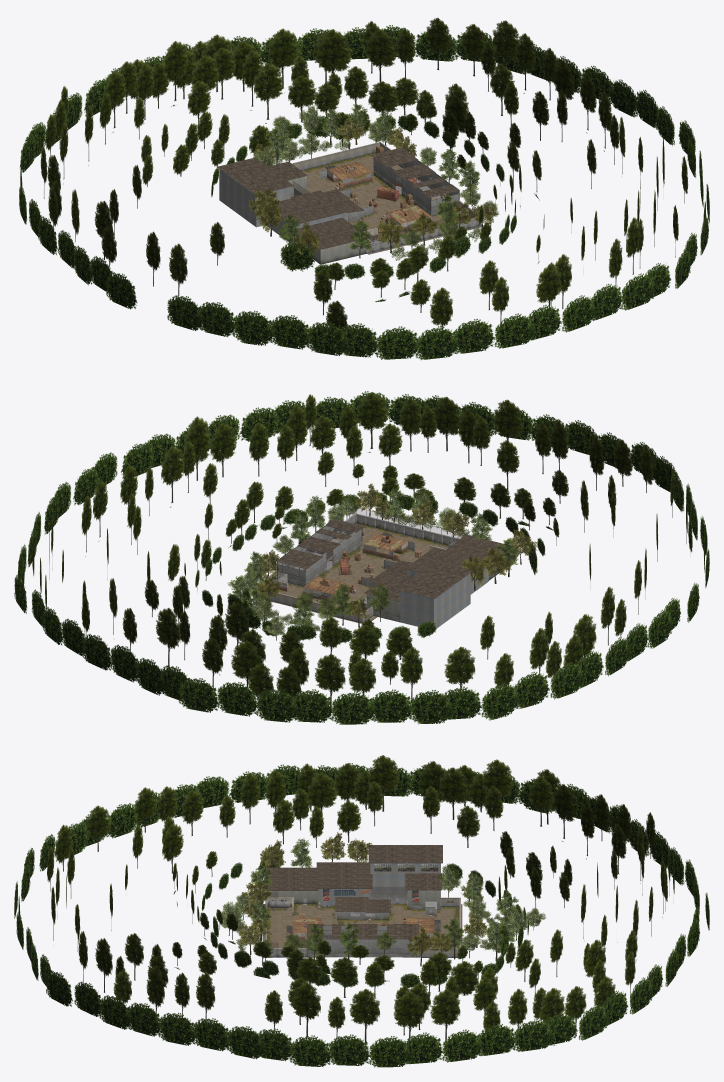
Rendered from map1.glb.
3 renders of one model, top to bottom at view 1: azimuth 30°, elevation 25°; view 2: azimuth 150°, elevation 25°; view 3: azimuth 270°, elevation 25°, orthographic. The views are drawn at different scales.
Visible parts, largest first — view 1: Object_36, Object_18, Object_33, Object_30, Object_15, Object_21, Object_24, Object_9, Object_27; view 2: Object_36, Object_18, Object_33, Object_30, Object_15, Object_21, Object_27, Object_9, Object_24; view 3: Object_36, Object_18, Object_33, Object_30, Object_21, Object_15, Object_24, Object_9.
Boxes of the visible parts, box(x1,y1,x2,y2) form: Object_36: box(19, 17, 709, 359); Object_18: box(217, 147, 468, 249); Object_33: box(291, 142, 481, 254); Object_30: box(219, 169, 476, 244); Object_15: box(248, 116, 490, 258); Object_21: box(327, 145, 446, 241); Object_24: box(287, 176, 366, 264); Object_9: box(304, 150, 481, 249); Object_27: box(305, 170, 468, 243); Object_36: box(14, 391, 709, 724); Object_18: box(276, 519, 511, 622); Object_33: box(253, 513, 459, 623); Object_30: box(356, 513, 488, 628); Object_15: box(235, 494, 537, 640); Object_21: box(262, 532, 456, 594); Object_27: box(268, 528, 445, 610); Object_9: box(278, 522, 447, 591); Object_24: box(366, 552, 514, 617); Object_36: box(14, 755, 709, 1067); Object_18: box(265, 845, 442, 957); Object_33: box(263, 897, 462, 957); Object_30: box(265, 863, 440, 941); Object_21: box(268, 864, 456, 948); Object_15: box(226, 844, 535, 966); Object_24: box(266, 890, 440, 905); Object_9: box(267, 904, 459, 957).
Size of the model in its own units: 2.17 by 0.2422 by 2.33.
10 materials, 10 textured.
